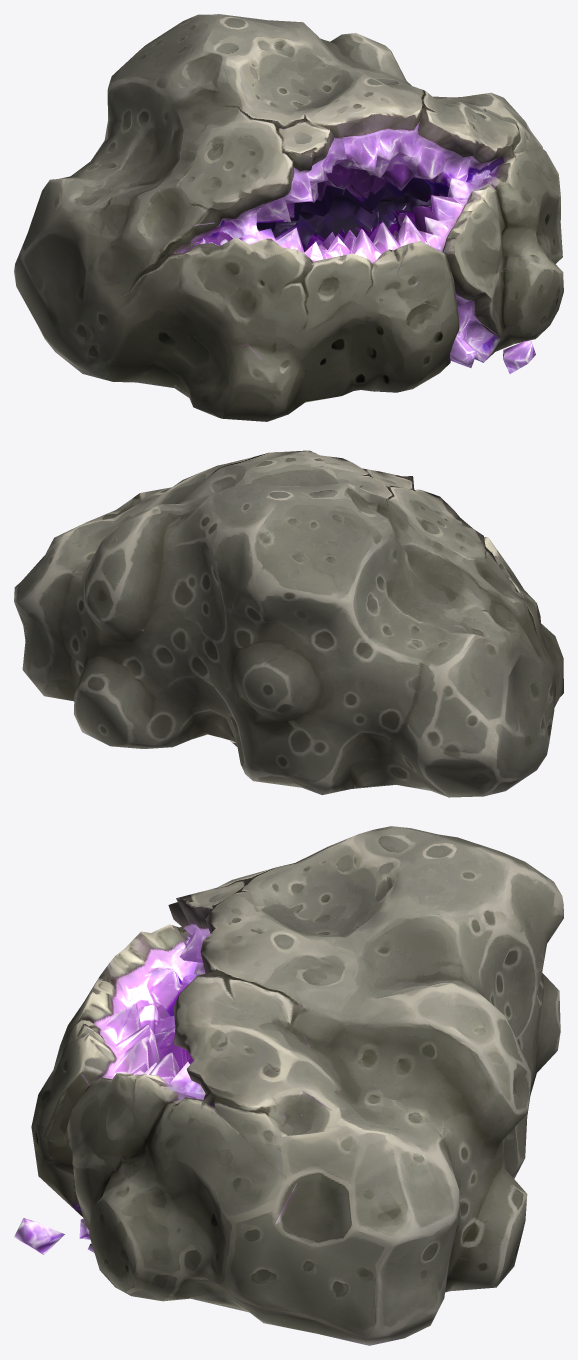
3 renders of one model, top to bottom at view 1: azimuth 30°, elevation 25°; view 2: azimuth 150°, elevation 25°; view 3: azimuth 270°, elevation 25°, orthographic. The views are drawn at different scales.
Visible parts, largest first — view 1: Mesh_0; view 2: Mesh_0; view 3: Mesh_0.
Part boxes in pixels (x1,y1,x2,y2): Mesh_0: (14, 14, 563, 421); Mesh_0: (14, 450, 563, 797); Mesh_0: (14, 826, 563, 1345).
Size of the model in its own units: 1.91 by 0.9769 by 1.46.
1 material, 1 textured.
